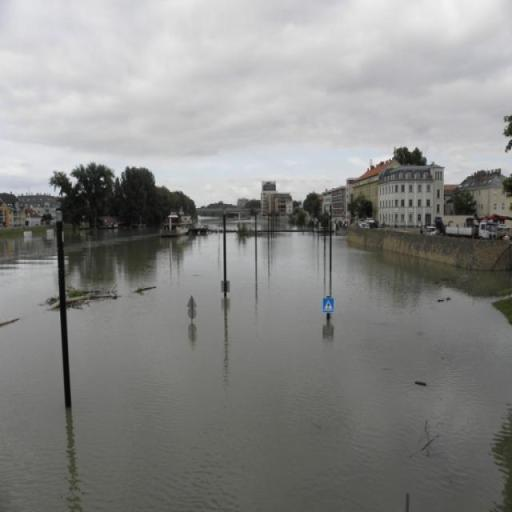flood: (0, 232, 512, 512)
house: (346, 151, 443, 229), (262, 182, 292, 220), (164, 206, 192, 238)
